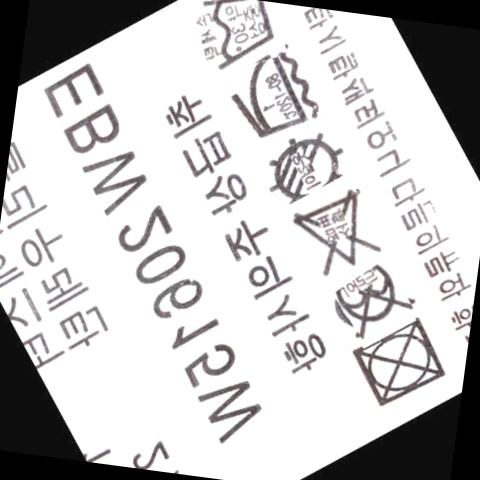DN_dry_clean: (328, 258, 409, 331)
DN_tumble_dry: (351, 314, 449, 412)
hand_wash: (190, 0, 275, 74)
iron_low: (232, 47, 311, 145)
line_dry_in_shade: (264, 125, 353, 205)
non_chlorine_bleach: (294, 191, 376, 276)
